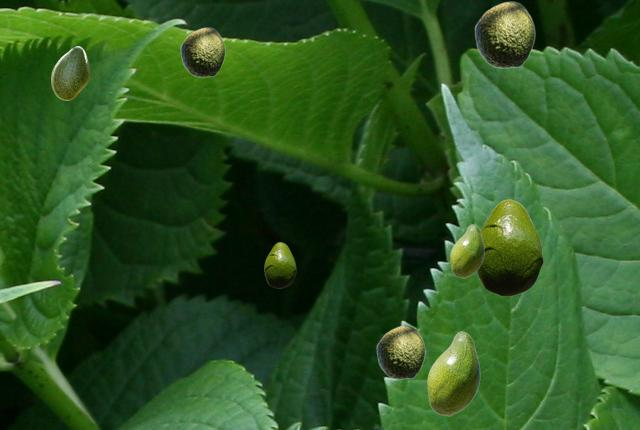avocado: (477, 199, 542, 295), (427, 331, 479, 415), (474, 1, 534, 67), (376, 325, 424, 378), (180, 27, 224, 76), (51, 46, 88, 99), (450, 224, 483, 277), (264, 242, 295, 287)
